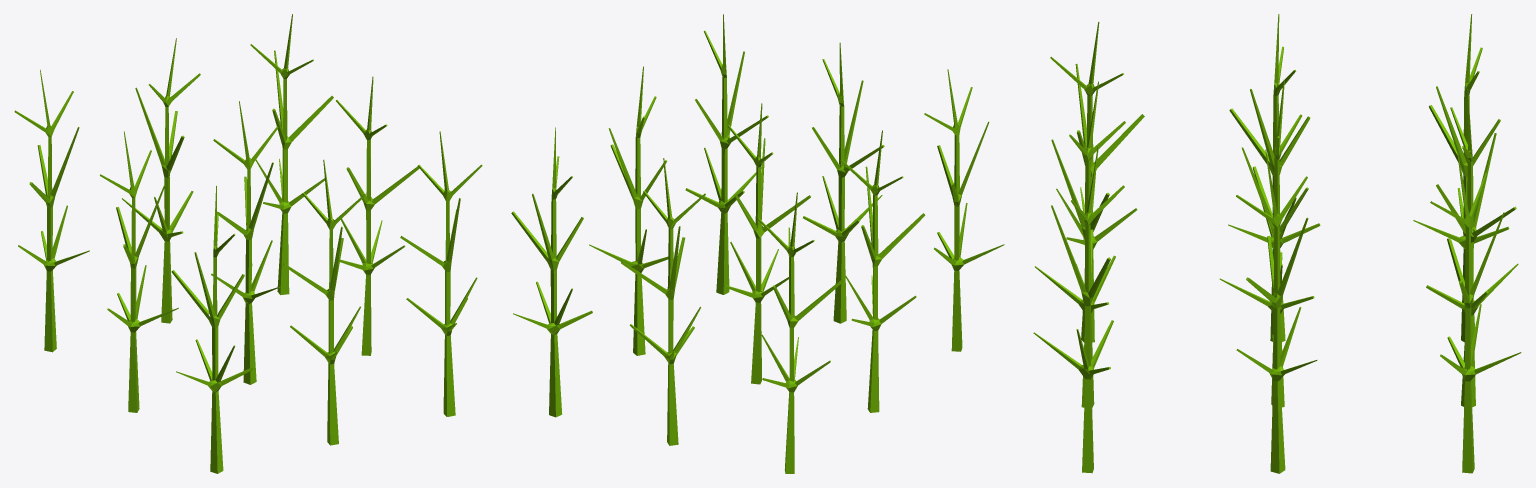
The model's file is corn_large_plant.glb.
3 views of the same model, side by side, from view 1: azimuth 30°, elevation 25°; view 2: azimuth 150°, elevation 25°; view 3: azimuth 270°, elevation 25° (orthographic). The views are drawn at different scales.
Visible parts, largest first — view 1: CornLargePlant; view 2: CornLargePlant; view 3: CornLargePlant.
Boxes of the visible parts, x1,y1,x2,y2 form: CornLargePlant: (14, 14, 482, 473); CornLargePlant: (511, 14, 1004, 473); CornLargePlant: (1033, 14, 1521, 473).
Size of the model in its own units: 0.7844 by 0.6505 by 0.8948.
